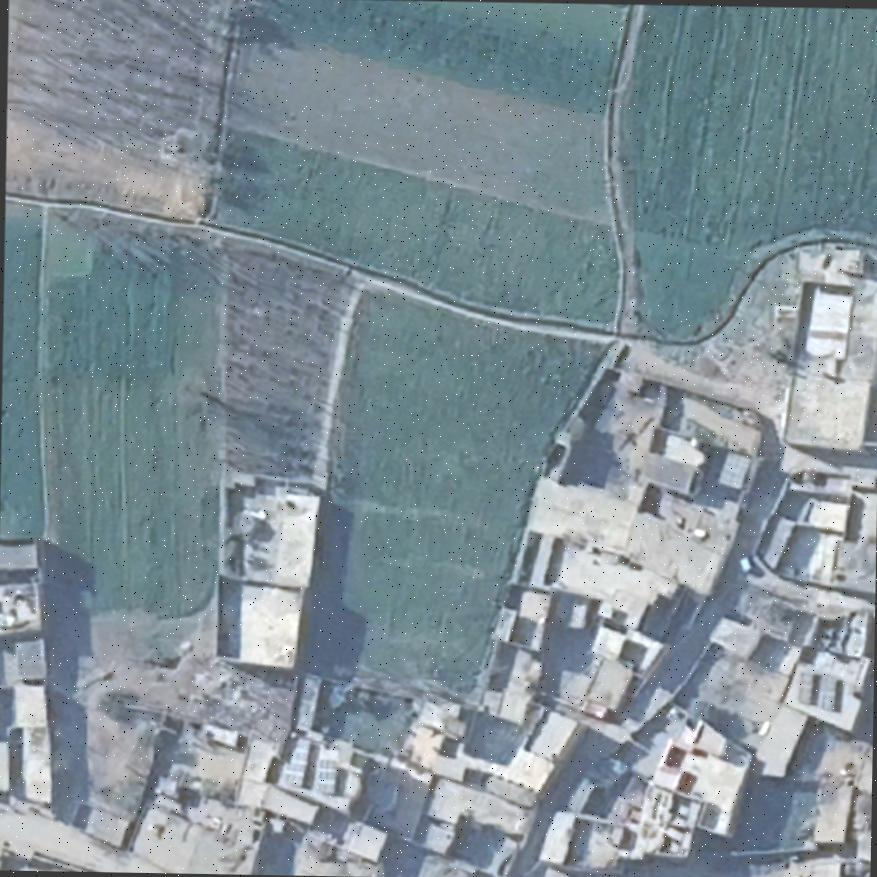Solarpanel: (279, 734, 314, 789), (716, 448, 752, 493), (312, 756, 342, 796), (816, 671, 840, 713), (794, 668, 816, 706)
